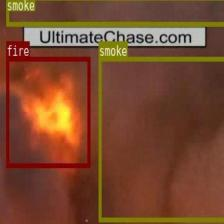fire: (6, 56, 90, 167)
smoke: (98, 56, 224, 221), (5, 0, 224, 25)
